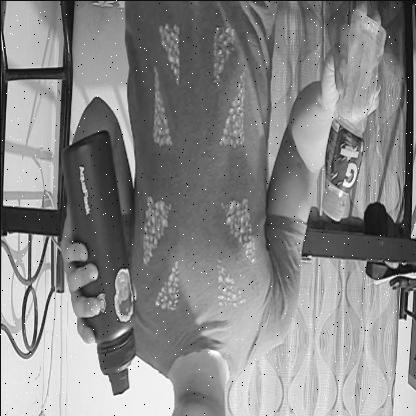Plastic Bottle: (322, 0, 383, 232)
